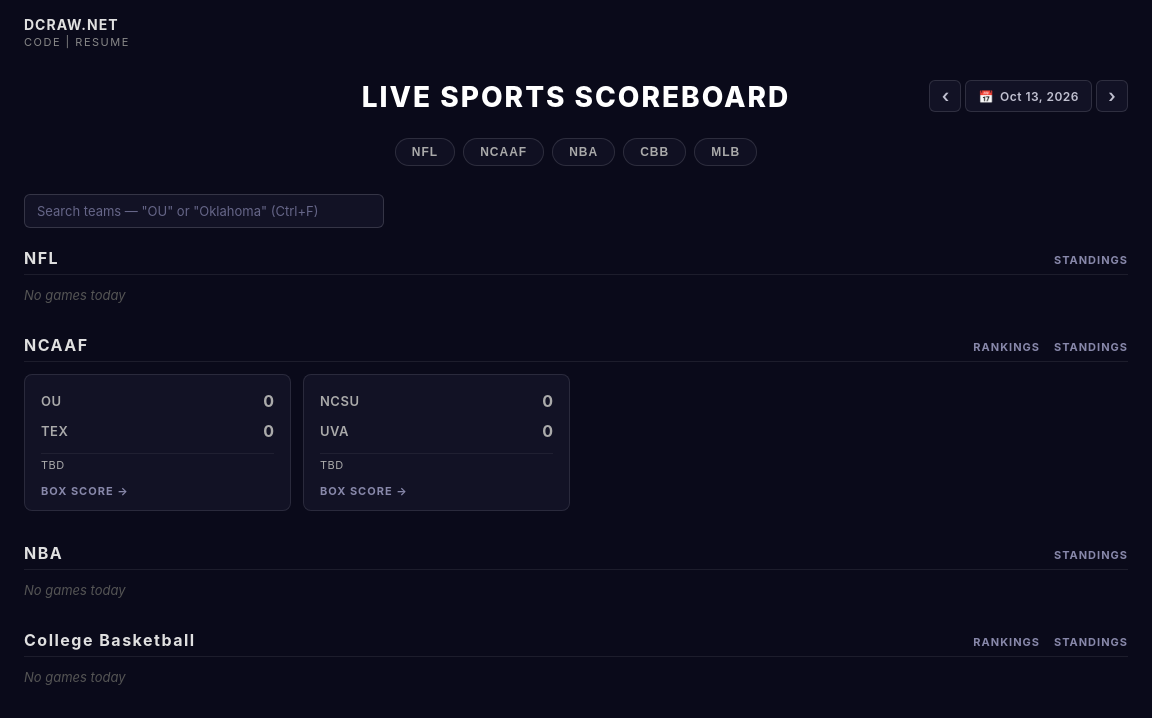
SportsPage search › filters by abbreviation
Type "uva" into the search field.
click(204, 211); type("uva")  # box [24, 194, 384, 228]
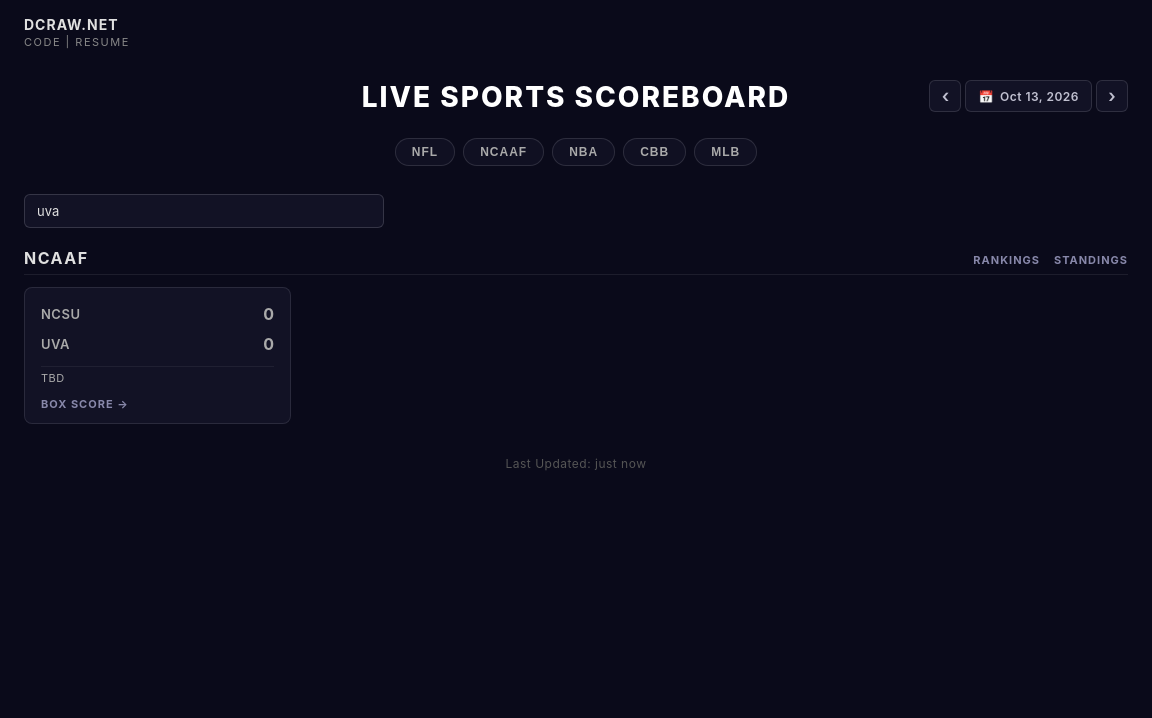
Expected: the text "NCSU" is shown, [41, 306, 80, 322]
Now the text "OU" is gone
